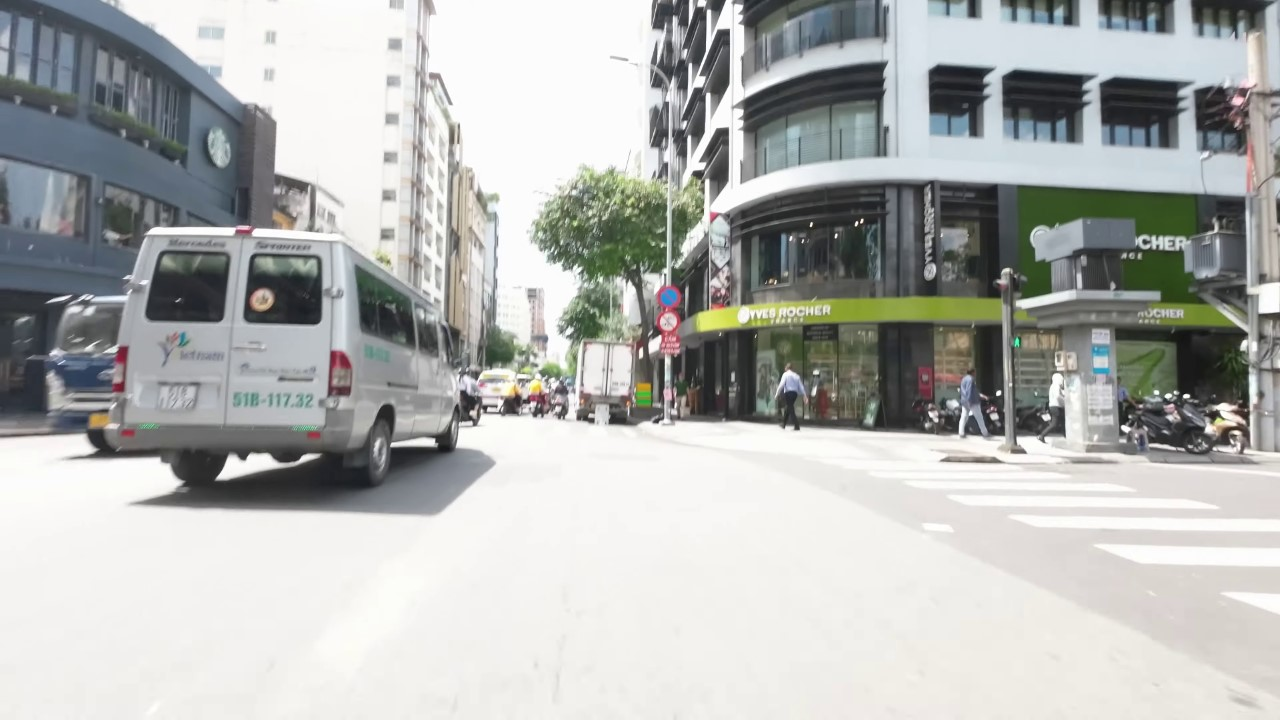cam_do_xe: (655, 283, 683, 311)
